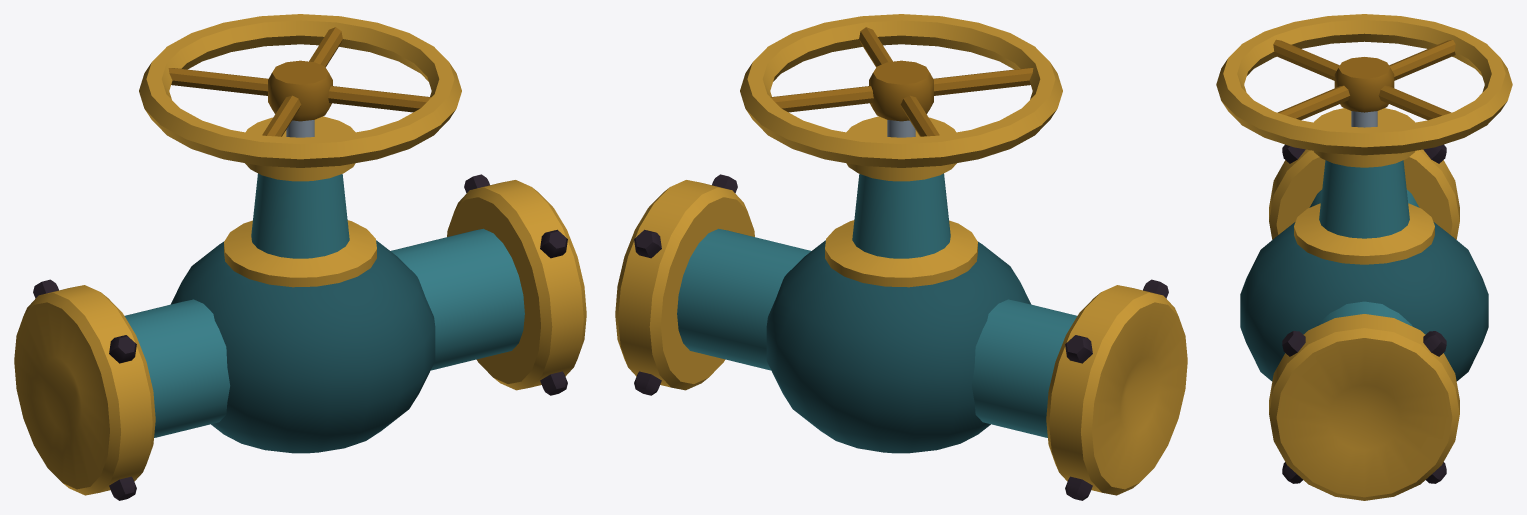
Rendered from Valve_14.glb.
3 views of the same model, side by side, from view 1: azimuth 30°, elevation 25°; view 2: azimuth 150°, elevation 25°; view 3: azimuth 270°, elevation 25° (orthographic). The views are drawn at different scales.
Parts seen in each view (by area): view 1: Valve_14; view 2: Valve_14; view 3: Valve_14.
Part boxes in pixels (left/top/right/bottom): Valve_14: left=14, top=14, right=586, bottom=500; Valve_14: left=615, top=14, right=1187, bottom=500; Valve_14: left=1216, top=14, right=1512, bottom=500.
Size of the model in its own units: 2.71 by 2 by 1.59.
